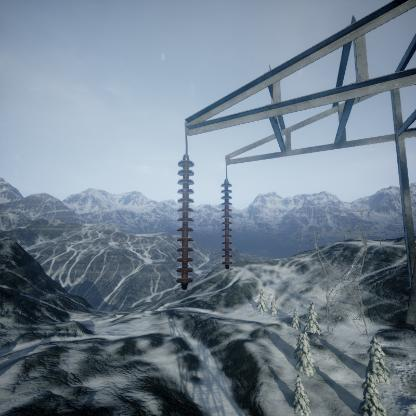insulator: (175, 153, 197, 288), (220, 177, 235, 270)
